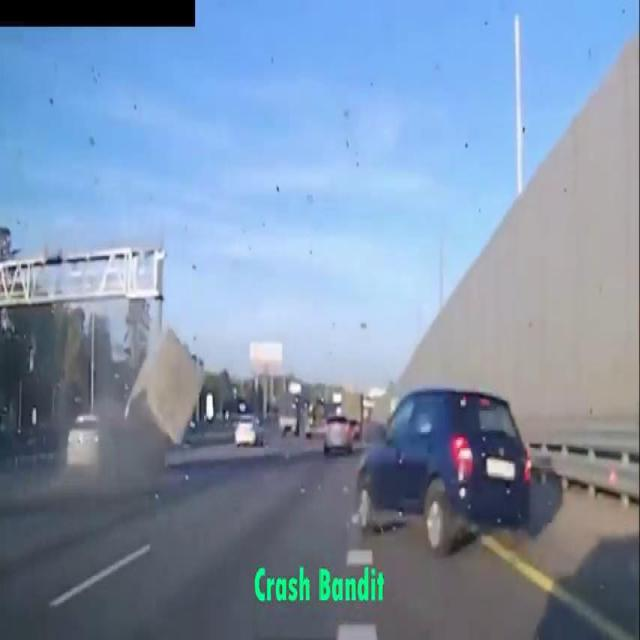severe: (107, 330, 210, 473)
